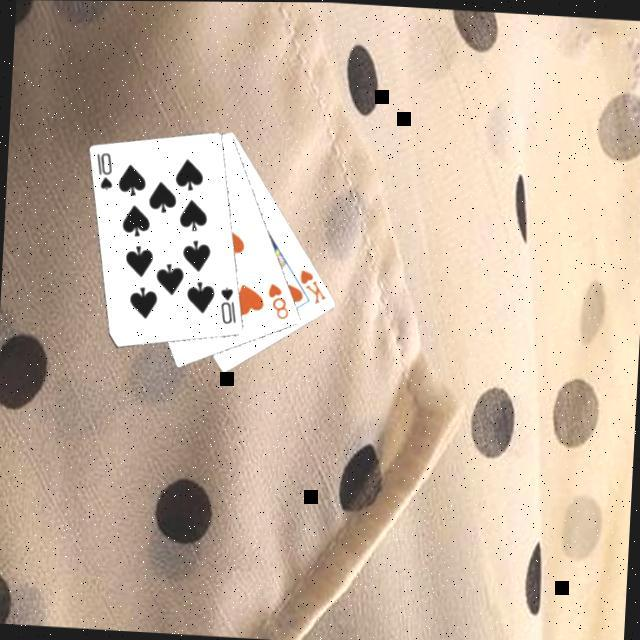10S: (95, 150, 119, 196), (218, 285, 242, 329)
8H: (265, 282, 295, 324)
KH: (298, 267, 334, 309)
